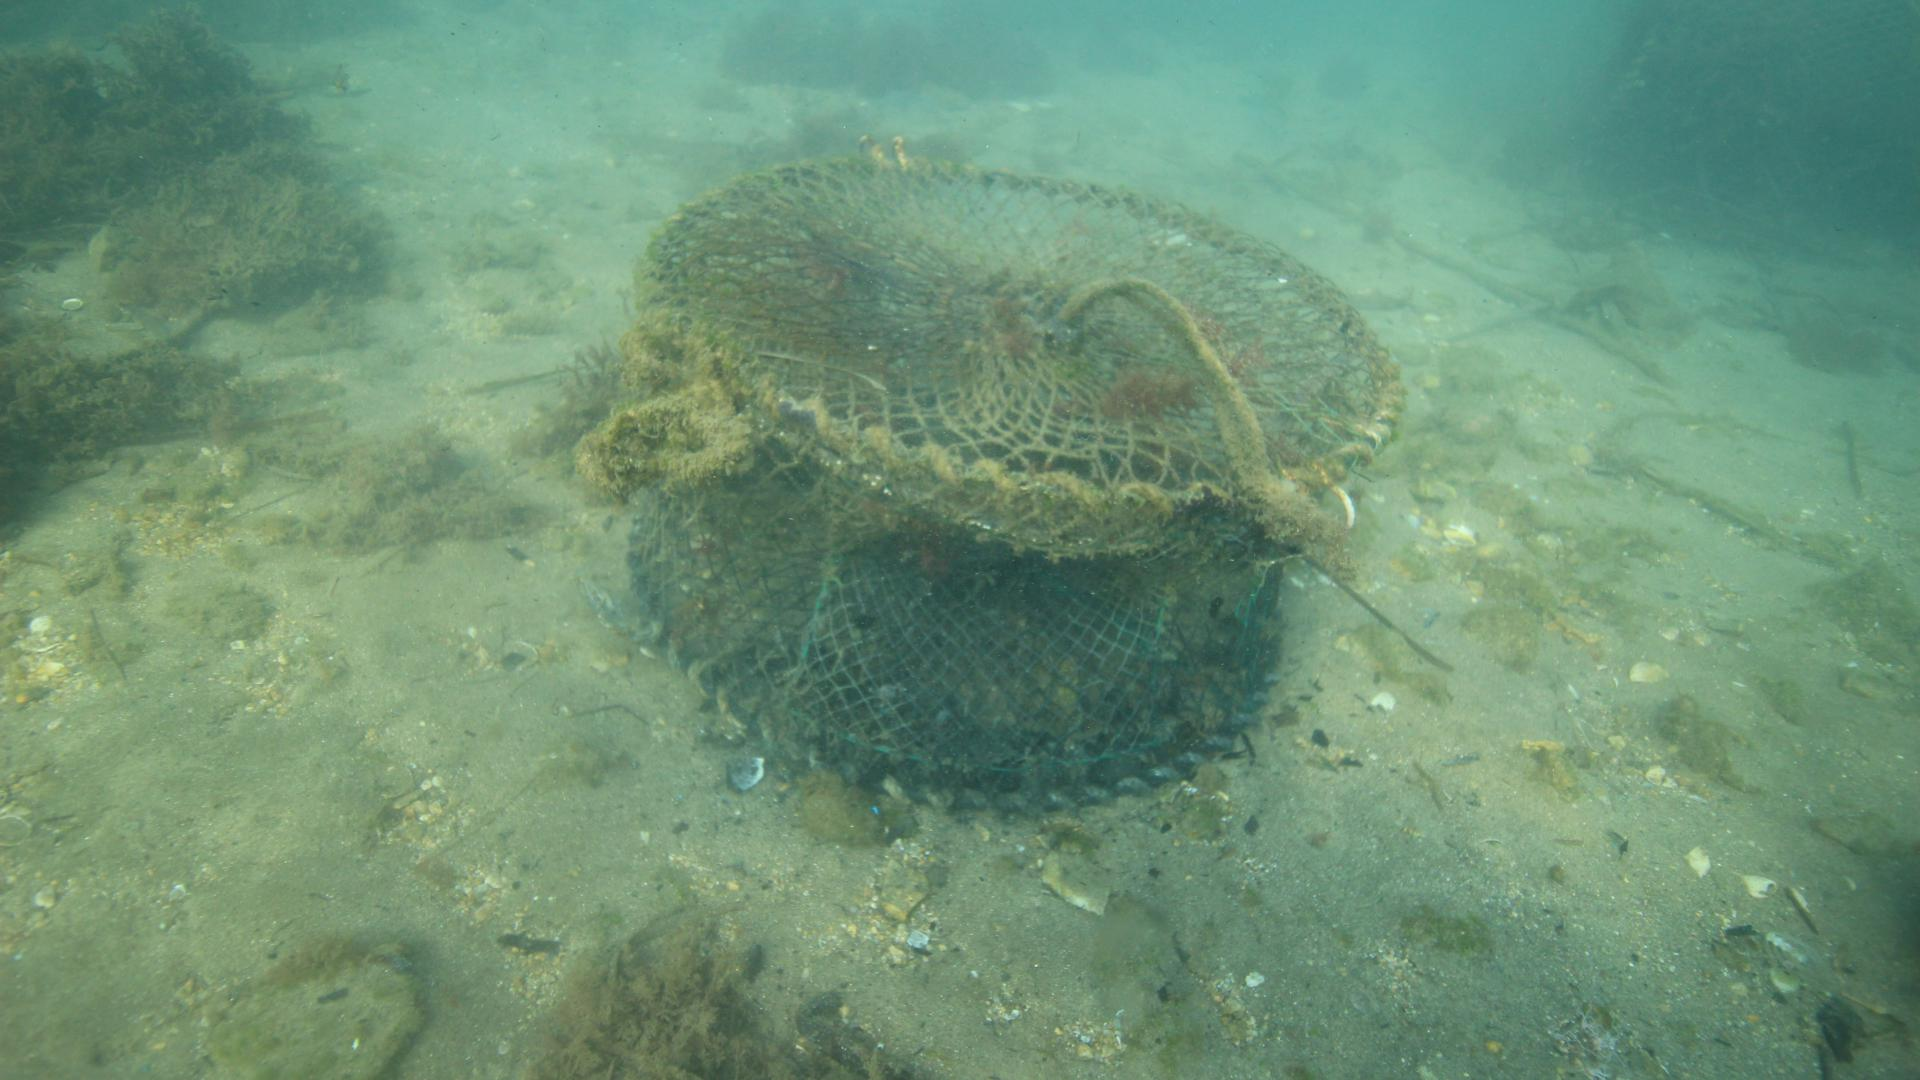circular fish trap: (622, 156, 1408, 812)
